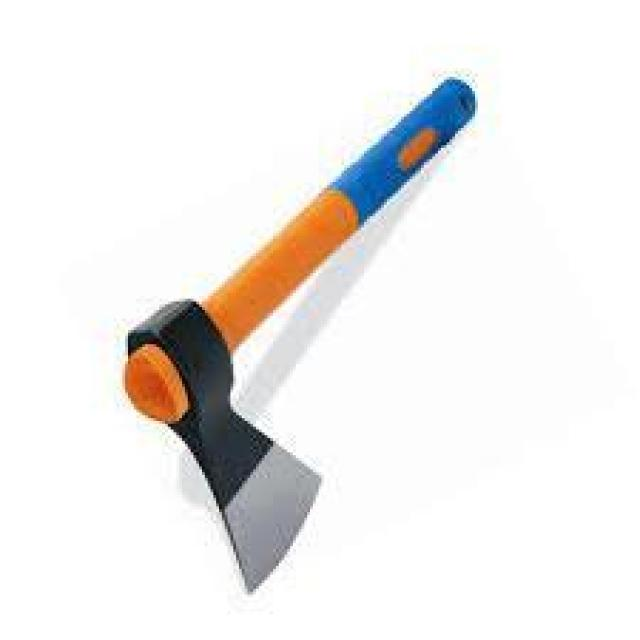Kapak: (107, 81, 470, 568)
